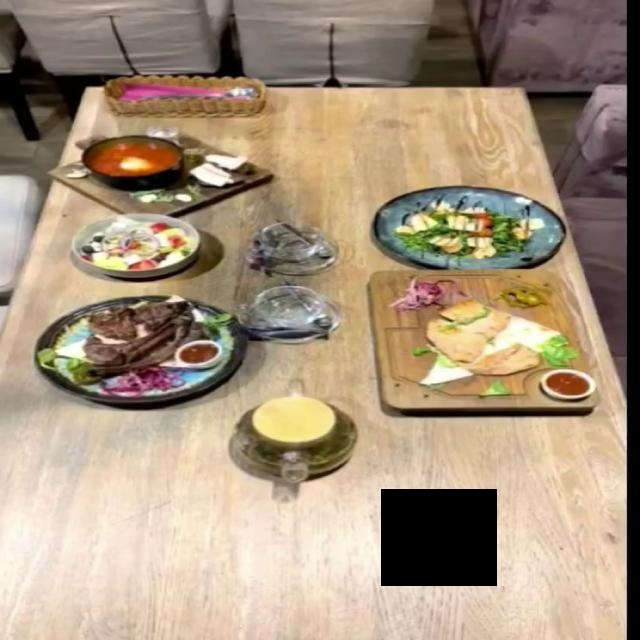meat: (354, 267, 607, 412), (33, 295, 250, 404)
salad: (374, 185, 568, 267), (68, 212, 200, 277)
soup: (67, 132, 252, 205)
tea: (230, 396, 359, 481)
